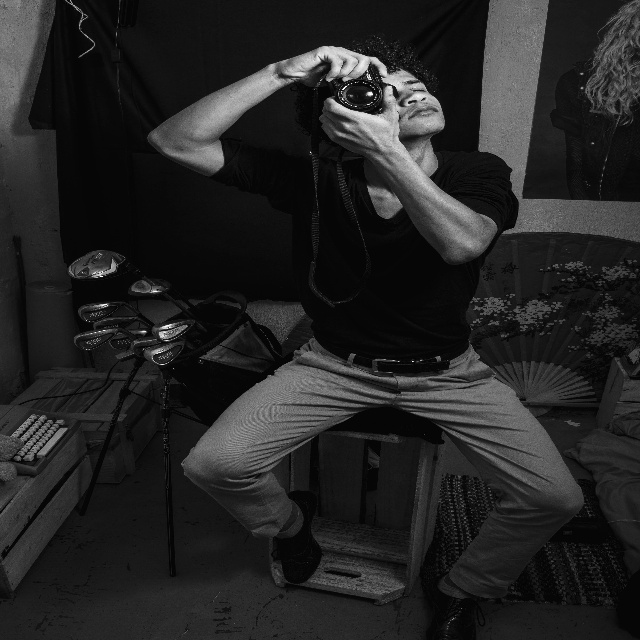Sin_guantes: (319, 79, 400, 162), (280, 45, 388, 84)
